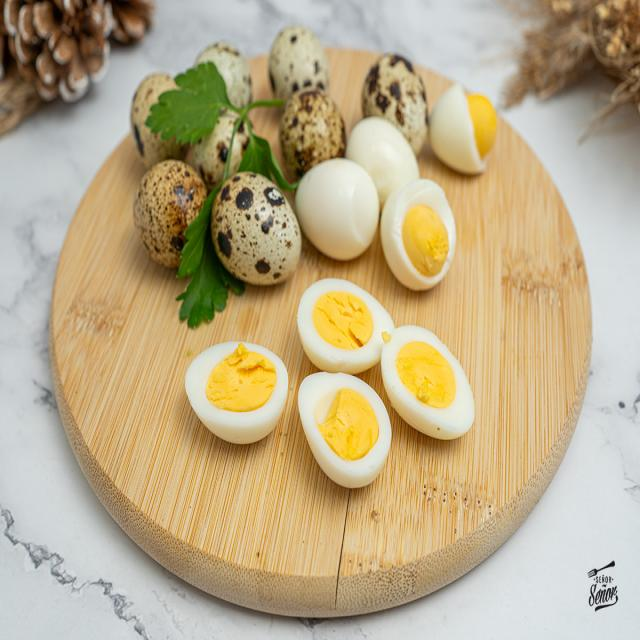huevos: (379, 318, 490, 452), (294, 368, 396, 494), (182, 336, 294, 448), (292, 277, 396, 376)
